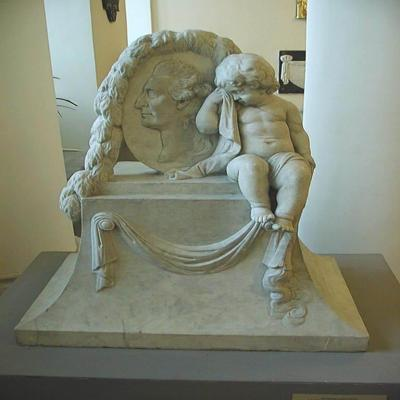sculpture: (14, 30, 400, 354)
